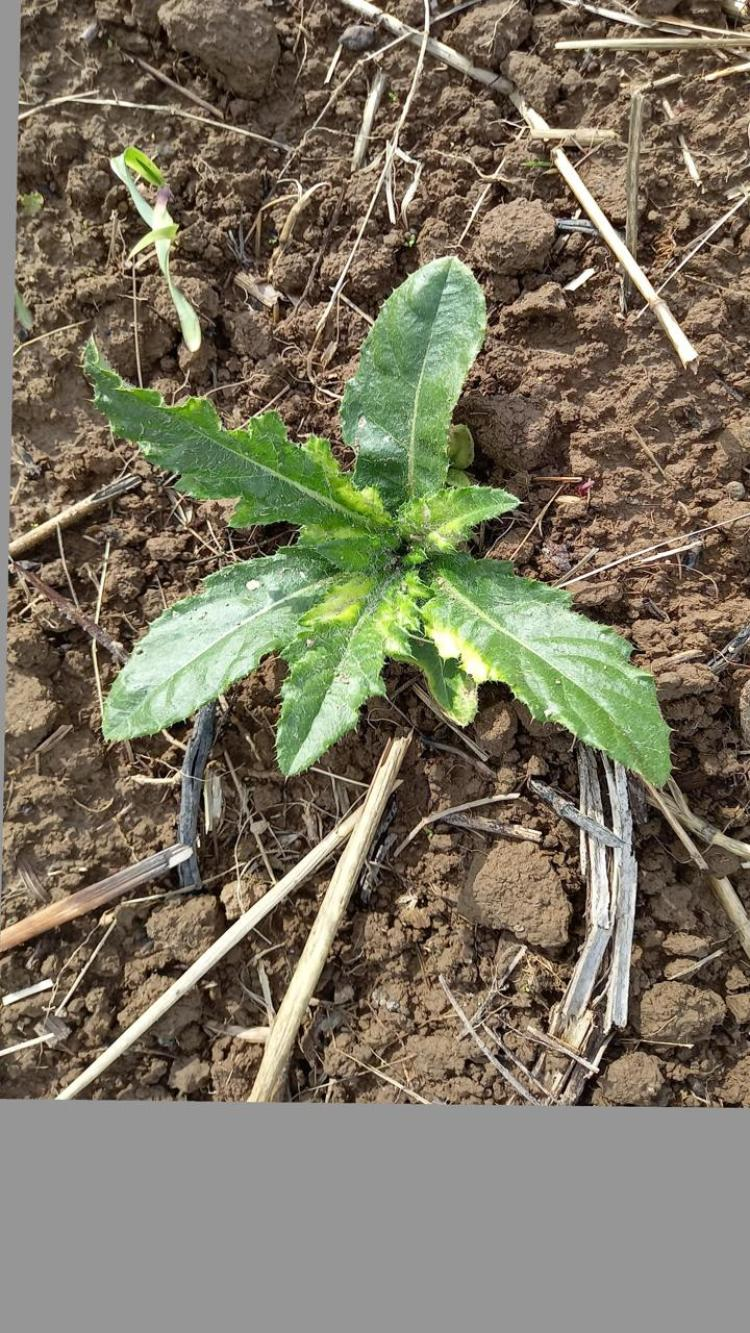bodyak: (67, 252, 681, 802)
